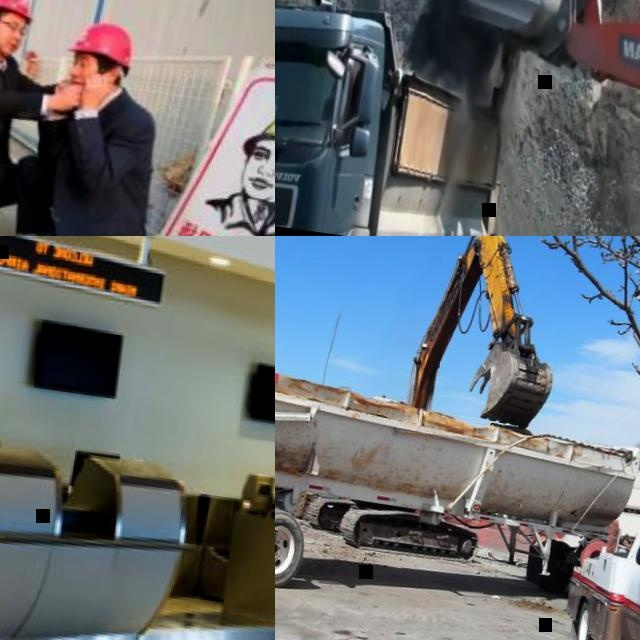Hardhat: (65, 18, 141, 70), (0, 0, 40, 28)
NO-Mask: (69, 68, 102, 92), (0, 31, 21, 56)
NO-Safety Vest: (46, 90, 159, 212), (0, 49, 31, 152)
Person: (9, 14, 176, 236), (0, 0, 96, 236)
machinery: (275, 350, 640, 640), (296, 236, 577, 570), (275, 0, 521, 236), (412, 0, 640, 236)
